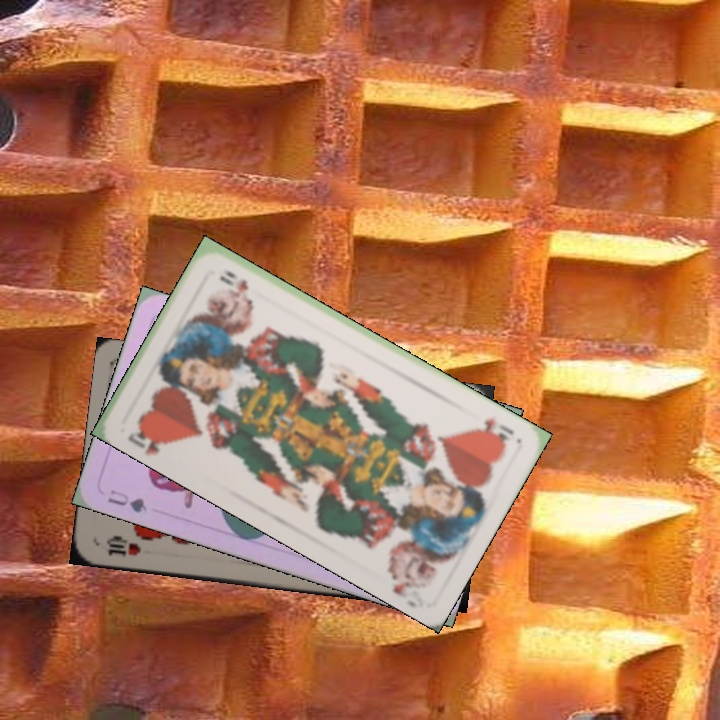GU: (103, 485, 150, 516)
H10: (103, 533, 143, 558)
HO: (124, 419, 174, 457), (480, 411, 517, 447)
